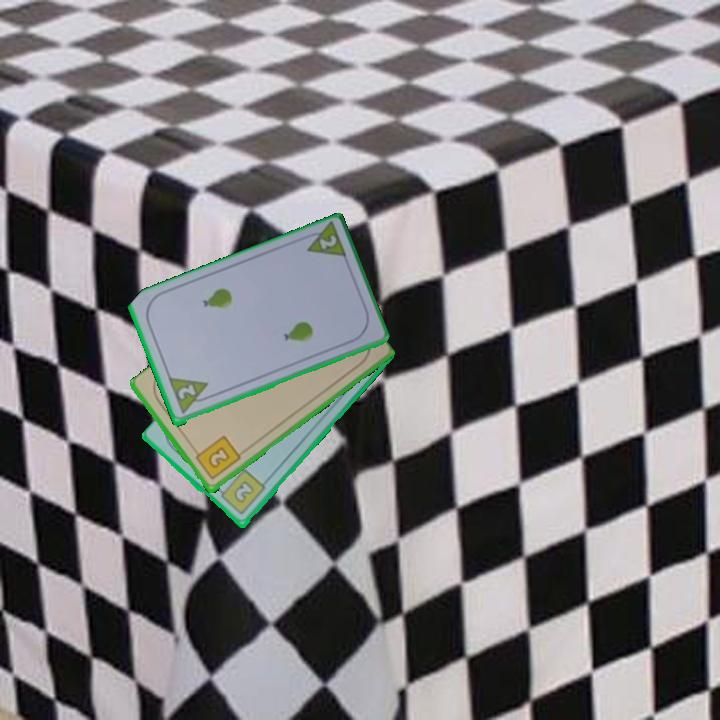2b: (214, 466, 268, 518), (191, 432, 243, 483)
2p: (165, 374, 215, 418), (315, 232, 340, 253)
